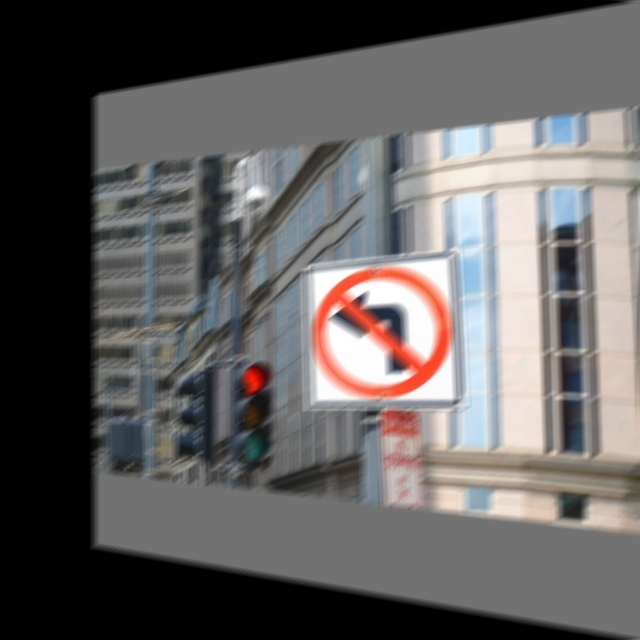Left_Turn_Prohibited: (305, 259, 465, 408)
